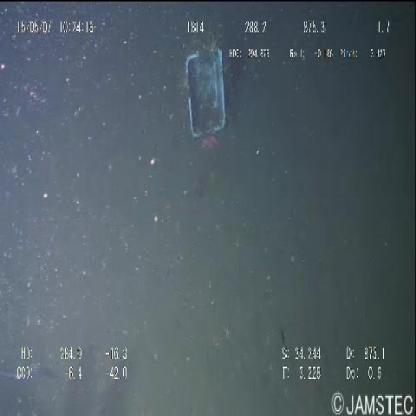Rác: (180, 31, 233, 154)
